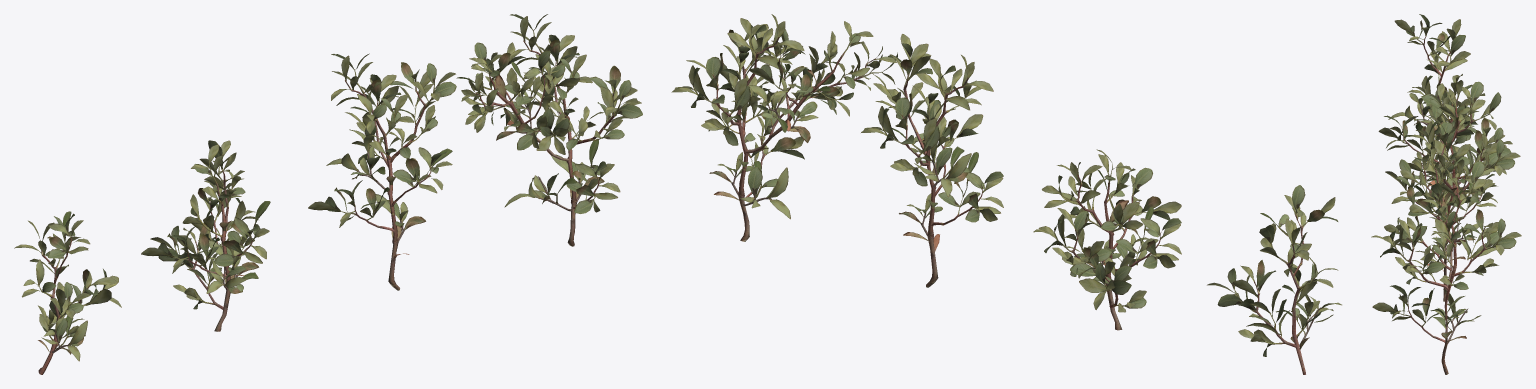
File: ph_shrub_04.glb
The picture shows the model from 3 angles, left to right: view 1: azimuth 30°, elevation 25°; view 2: azimuth 150°, elevation 25°; view 3: azimuth 270°, elevation 25°; orthographic projection. The views are drawn at different scales.
Parts seen in each view (by area): view 1: ph_shrub_04; view 2: ph_shrub_04; view 3: ph_shrub_04.
Boxes of the visible parts, x1,y1,x2,y2 form: ph_shrub_04: (14, 14, 642, 374); ph_shrub_04: (671, 14, 1341, 374); ph_shrub_04: (1371, 14, 1521, 374).
Size of the model in its own units: 0.5837 by 0.2192 by 0.146.
1 material, 1 textured.
